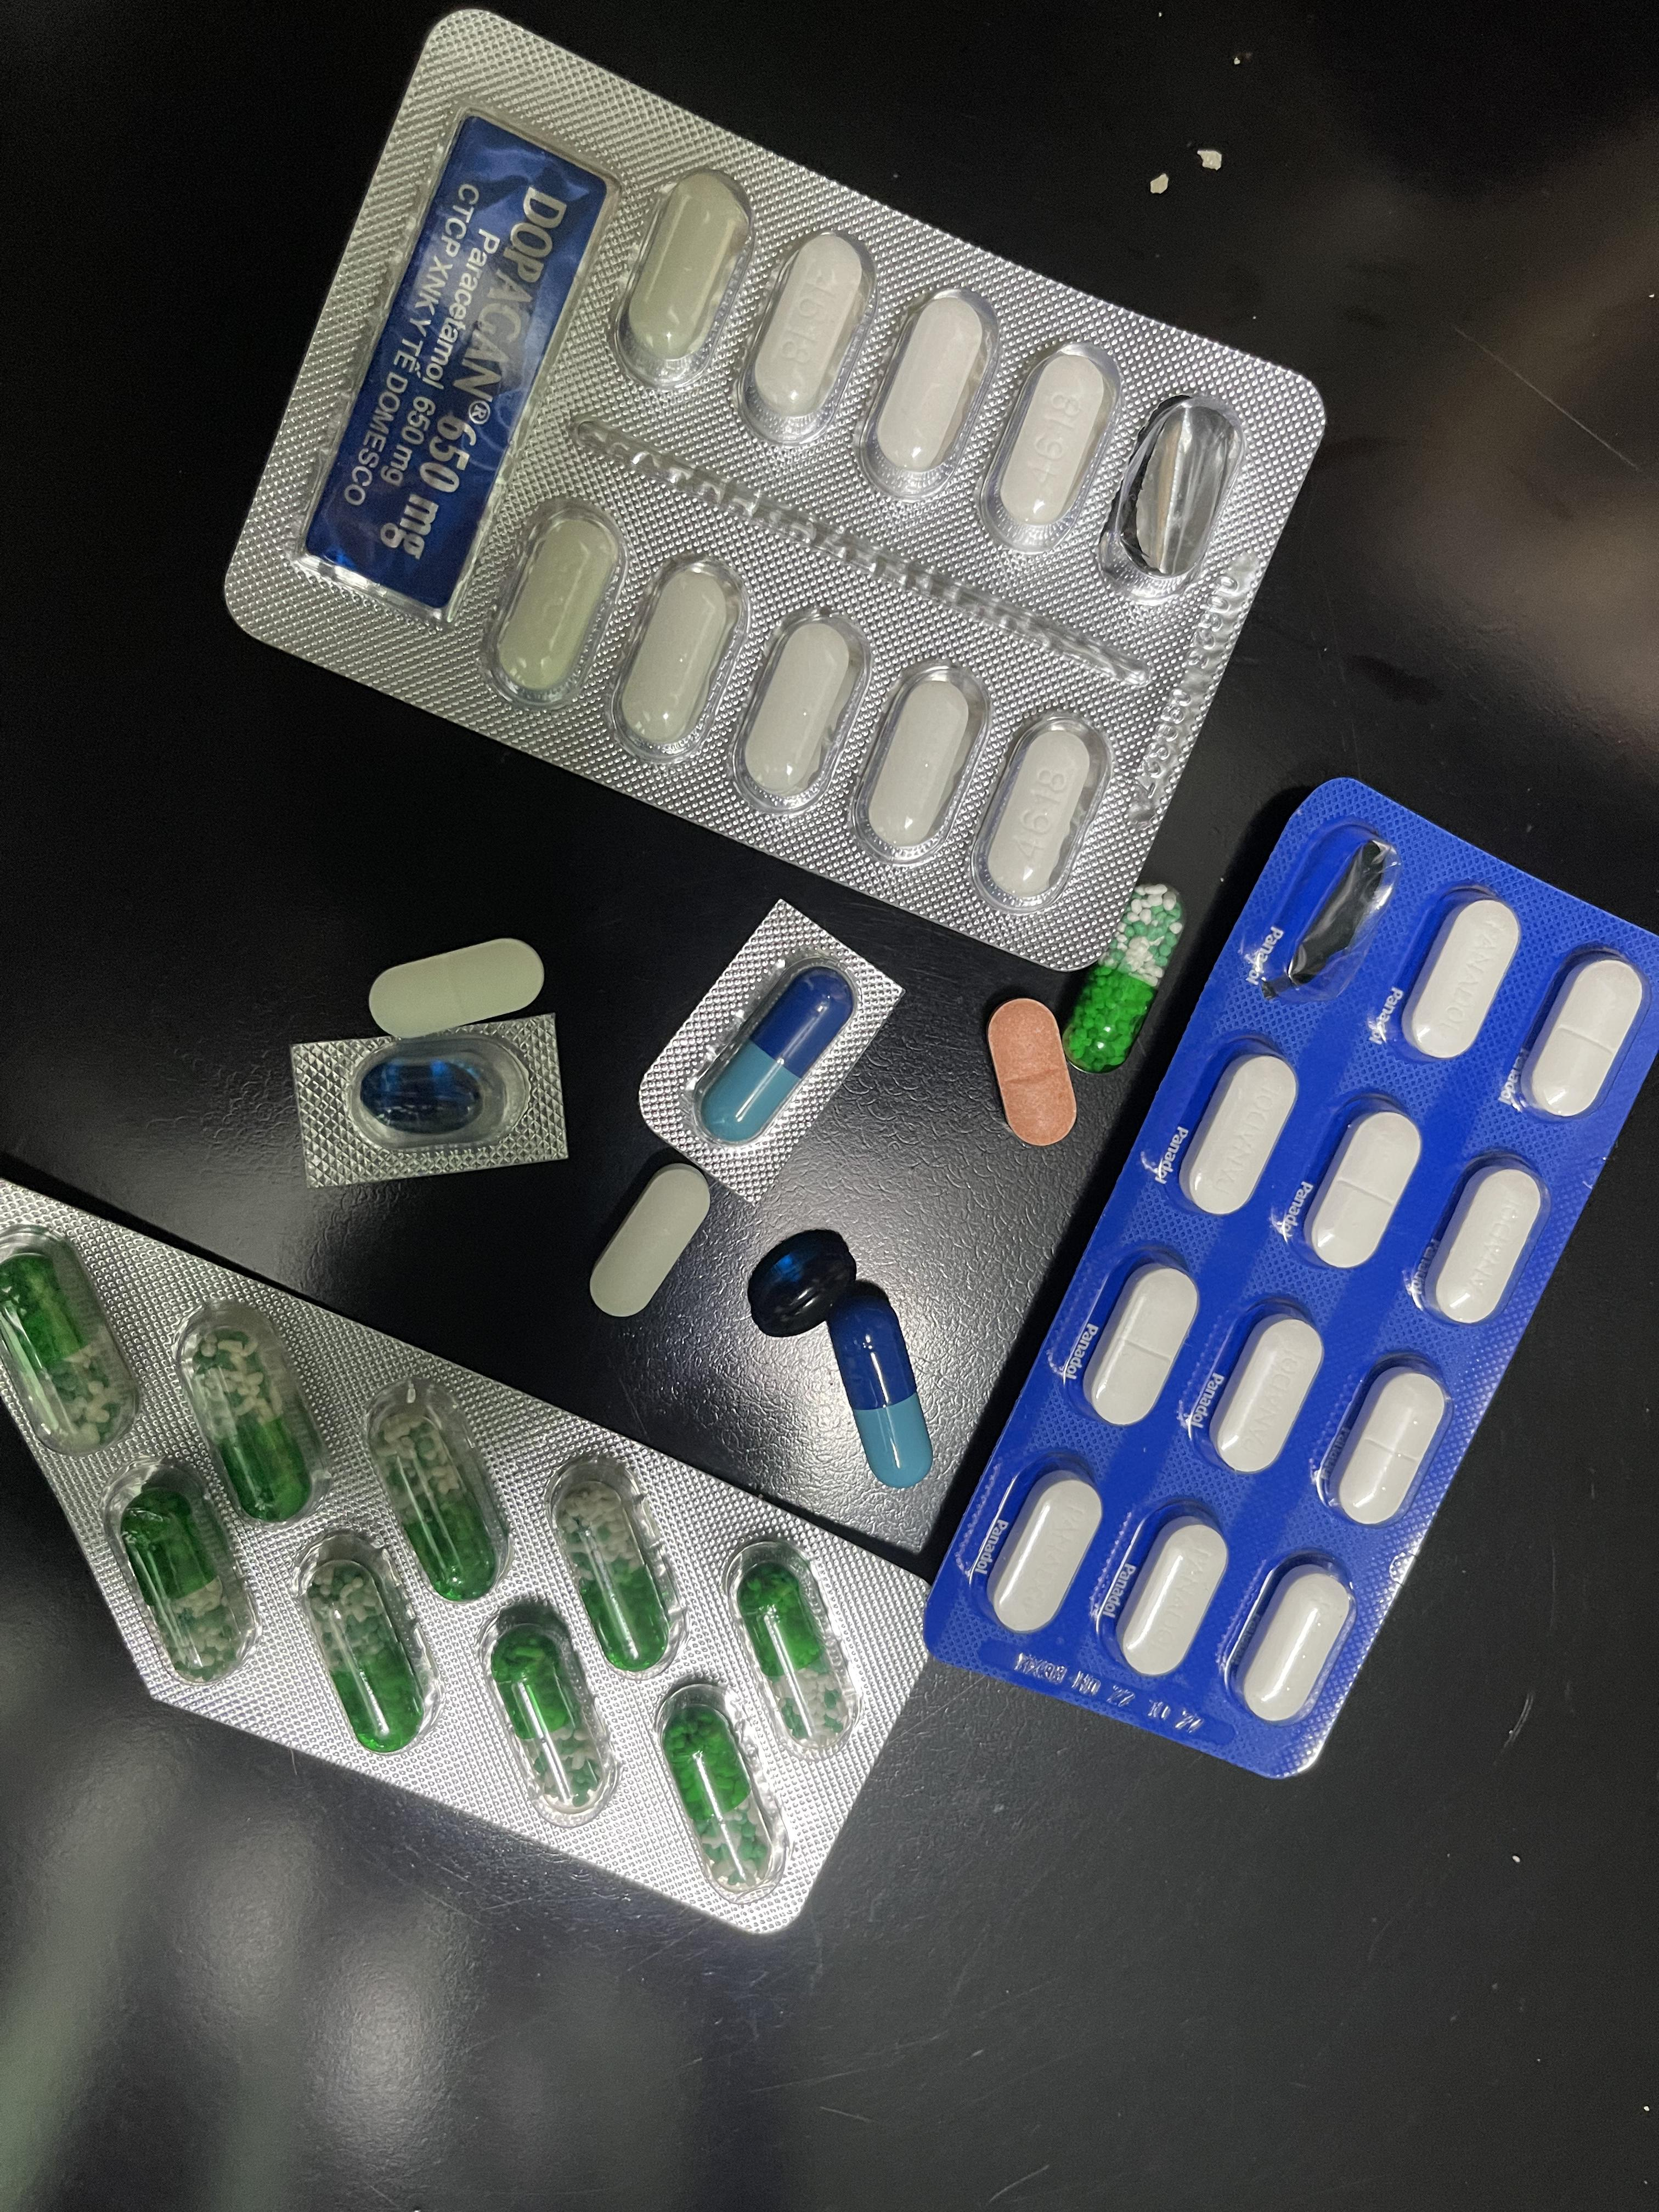Lincomyxin_500mg: (362, 1054, 486, 1141), (751, 1228, 854, 1327)
Loratadine_10mg: (985, 1000, 1079, 1150)
Paracetamol_350mg: (1422, 1158, 1549, 1329), (1521, 951, 1650, 1118), (1396, 904, 1530, 1057), (1305, 1106, 1425, 1273), (1236, 1561, 1356, 1728), (1330, 1367, 1450, 1529), (1211, 1312, 1326, 1479), (990, 1470, 1103, 1639), (1185, 1054, 1298, 1219), (368, 939, 545, 1043), (1115, 1515, 1227, 1681), (1086, 1263, 1194, 1428)
Paracetamol_500mg: (744, 233, 870, 420), (871, 289, 990, 479), (627, 174, 751, 354), (497, 514, 613, 693), (622, 564, 737, 745), (586, 1158, 708, 1320), (999, 354, 1107, 533), (742, 620, 850, 798), (868, 676, 976, 845), (988, 737, 1093, 894)
Paracetamol_650mg: (105, 1461, 263, 1684), (364, 1374, 512, 1595), (296, 1531, 439, 1757), (477, 1595, 617, 1820), (173, 1317, 312, 1527), (549, 1458, 687, 1670), (730, 1533, 863, 1750), (2, 1240, 138, 1449), (657, 1679, 786, 1898), (1063, 885, 1190, 1075)
pill: (690, 963, 852, 1143), (826, 1291, 939, 1487)
